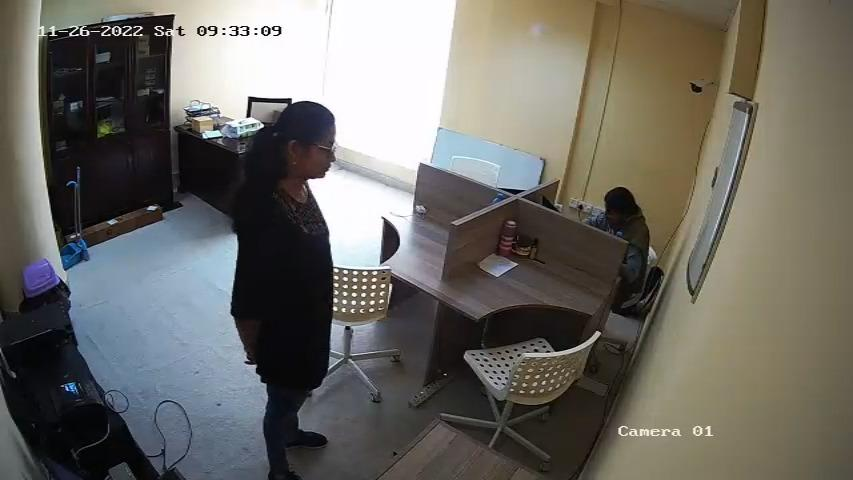no_apron: (263, 191, 330, 378)
